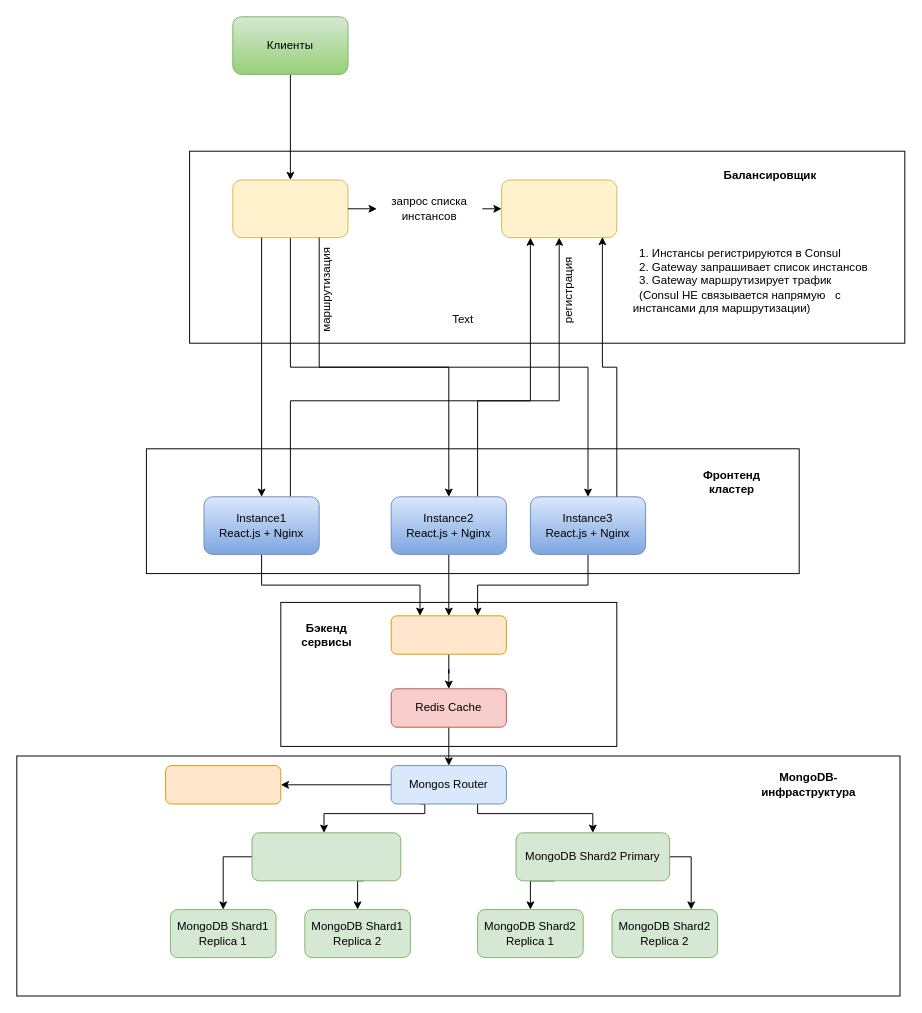
Some shapes in this 922 by 1013 pixel diagram are drawn without their labels. The centre of each missing label's shape, as x and y in pixels:
Api Gateway: the point at 290,208
Config Server: the point at 223,784
Consul: the point at 559,208
MongoDB Shard1 Primary: the point at 326,856
Pymongo-api: the point at 448,634
